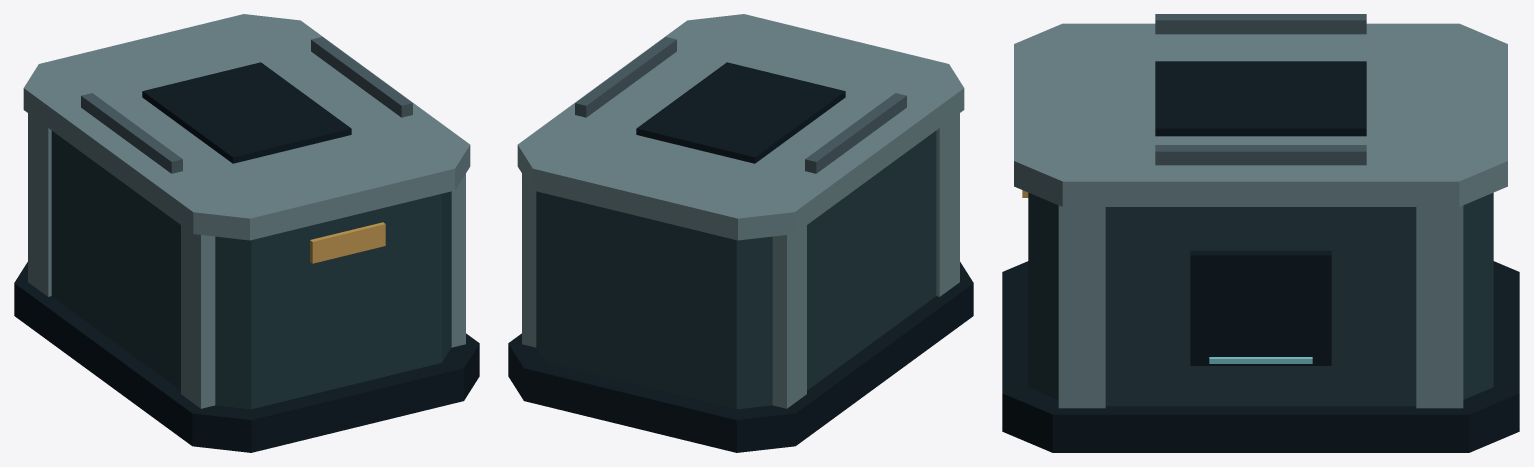
Rendered from cassette_d0_lod2.meshopt.glb.
3 renders of one model, left to right at view 1: azimuth 30°, elevation 25°; view 2: azimuth 150°, elevation 25°; view 3: azimuth 270°, elevation 25°, orthographic. The views are drawn at different scales.
Visible parts, largest first — view 1: DISTANCE_STATIC; view 2: DISTANCE_STATIC; view 3: DISTANCE_STATIC.
Boxes of the visible parts, box(x1,y1,x2,y2) form: DISTANCE_STATIC: box(14, 14, 479, 452); DISTANCE_STATIC: box(508, 14, 973, 452); DISTANCE_STATIC: box(1002, 14, 1519, 452).
Size of the model in its own units: 1.65 by 1.35 by 2.2.
